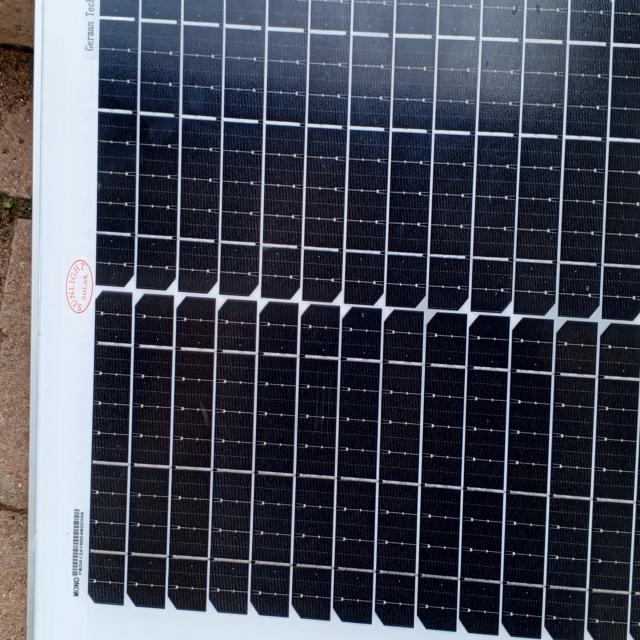Clean: (71, 4, 640, 630)
